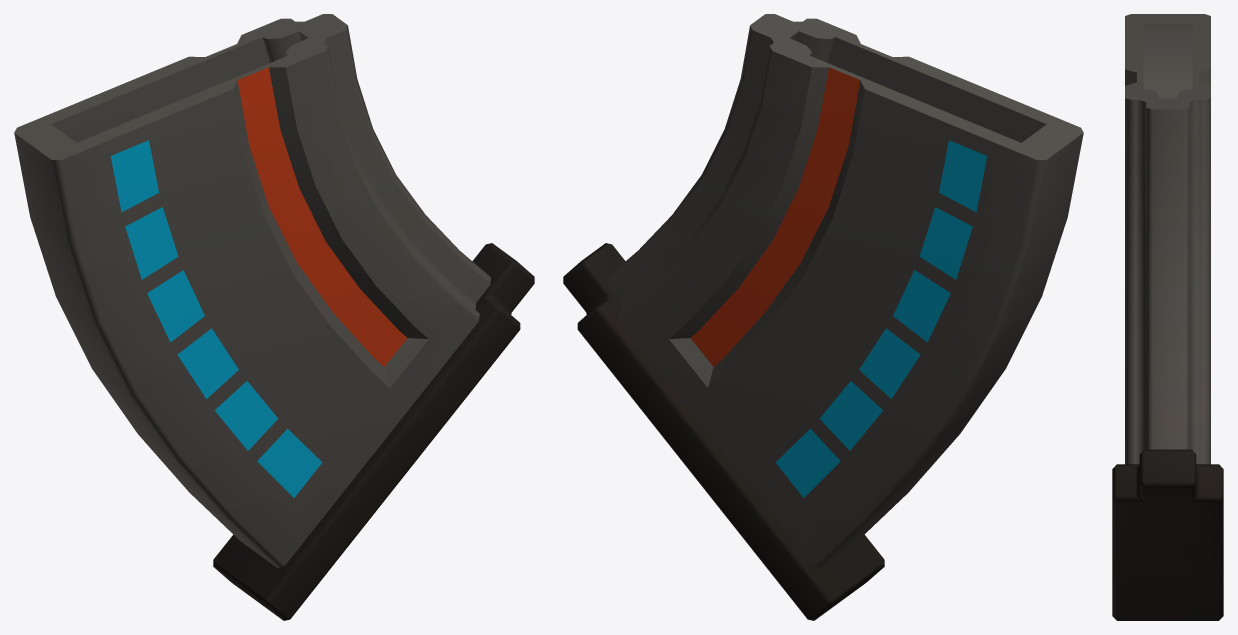
File: AR3_Magazine.fbx
The picture shows the model from 3 angles, left to right: view 1: azimuth 30°, elevation 25°; view 2: azimuth 150°, elevation 25°; view 3: azimuth 270°, elevation 25°; orthographic projection. The views are drawn at different scales.
Visible parts, largest first — view 1: AR3_Magazine; view 2: AR3_Magazine; view 3: AR3_Magazine.
Part boxes in pixels (x1,y1,x2,y2): AR3_Magazine: (14,14,534,620); AR3_Magazine: (563,14,1083,620); AR3_Magazine: (1112,14,1223,620).
Bounding box in the file's own units: 12.39 × 13.59 × 2.51.
